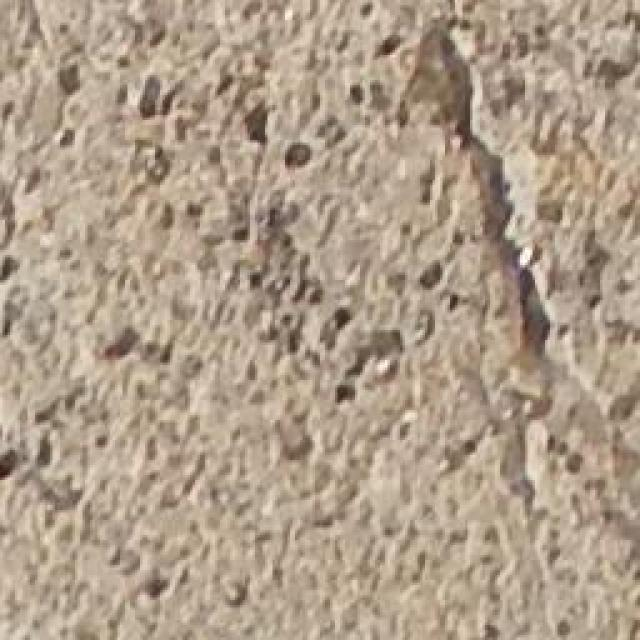concrete-crack: (385, 31, 619, 494)
